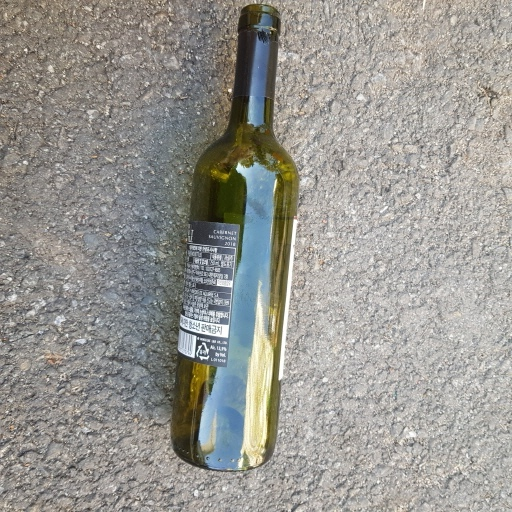Glass_2: (174, 1, 305, 478)
